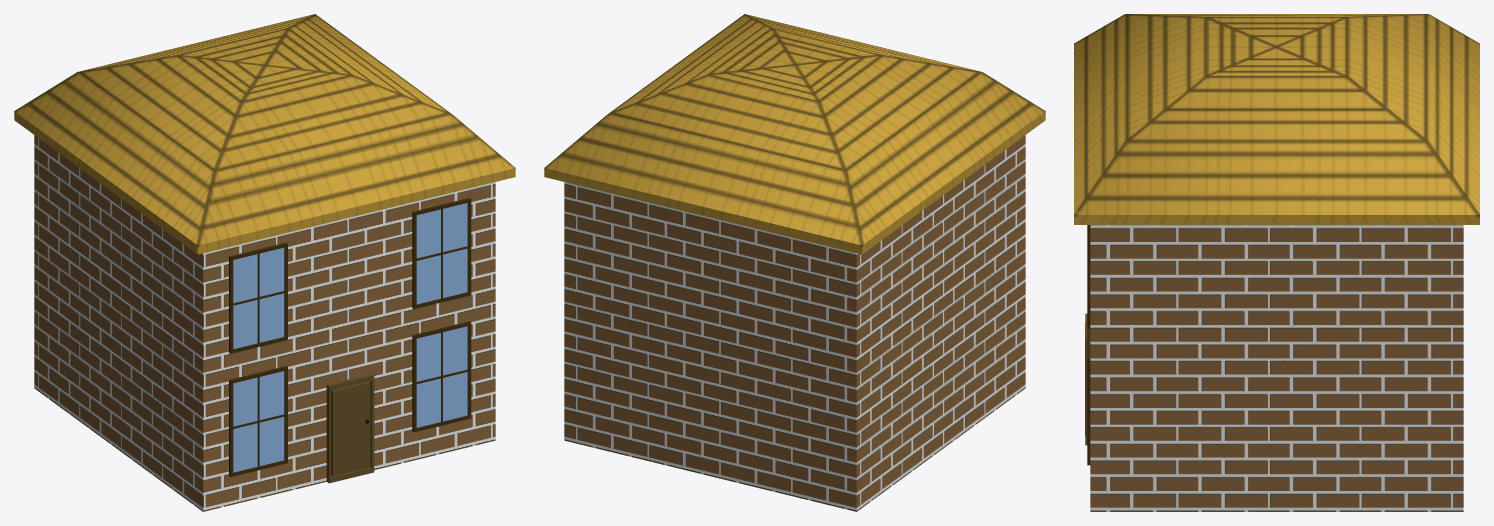
File: SuburbanResidential3.fbx
3 renders of one model, left to right at view 1: azimuth 30°, elevation 25°; view 2: azimuth 150°, elevation 25°; view 3: azimuth 270°, elevation 25°, orthographic. The views are drawn at different scales.
Visible parts, largest first — view 1: House, Window2, Window4, Window5, Window3, DoorFrame; view 2: House; view 3: House, Window4.
Part boxes in pixels (left/top/right/bottom): House: left=14, top=14, right=515, bottom=511; Window2: left=412, top=198, right=471, bottom=308; Window4: left=412, top=321, right=471, bottom=432; Window5: left=229, top=242, right=287, bottom=353; Window3: left=229, top=366, right=287, bottom=477; DoorFrame: left=326, top=373, right=374, bottom=483; House: left=544, top=14, right=1045, bottom=511; House: left=1074, top=14, right=1479, bottom=511; Window4: left=1087, top=329, right=1090, bottom=465.
Size of the model in its own units: 16 by 16.8 by 16.
